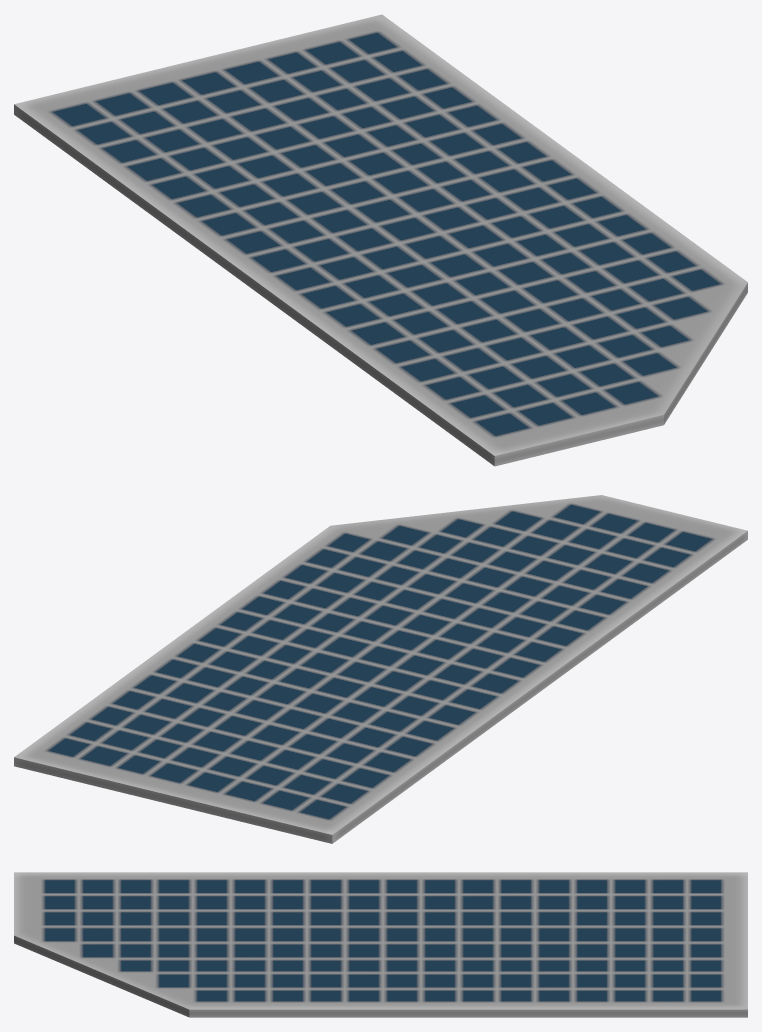
Rendered from Eridani_Solar_1_Panel_0_2_R.obj.
3 renders of one model, top to bottom at view 1: azimuth 30°, elevation 25°; view 2: azimuth 150°, elevation 25°; view 3: azimuth 270°, elevation 25°, orthographic. The views are drawn at different scales.
Parts seen in each view (by area): view 1: Eridani_Solar_1_Panel_0_2_R; view 2: Eridani_Solar_1_Panel_0_2_R; view 3: Eridani_Solar_1_Panel_0_2_R.
Part boxes in pixels (<box>): Eridani_Solar_1_Panel_0_2_R: <box>14,14,747,466</box>; Eridani_Solar_1_Panel_0_2_R: <box>14,495,747,843</box>; Eridani_Solar_1_Panel_0_2_R: <box>14,872,747,1017</box>.
Size of the model in its own units: 0.3702 by 0.01 by 0.8375.
